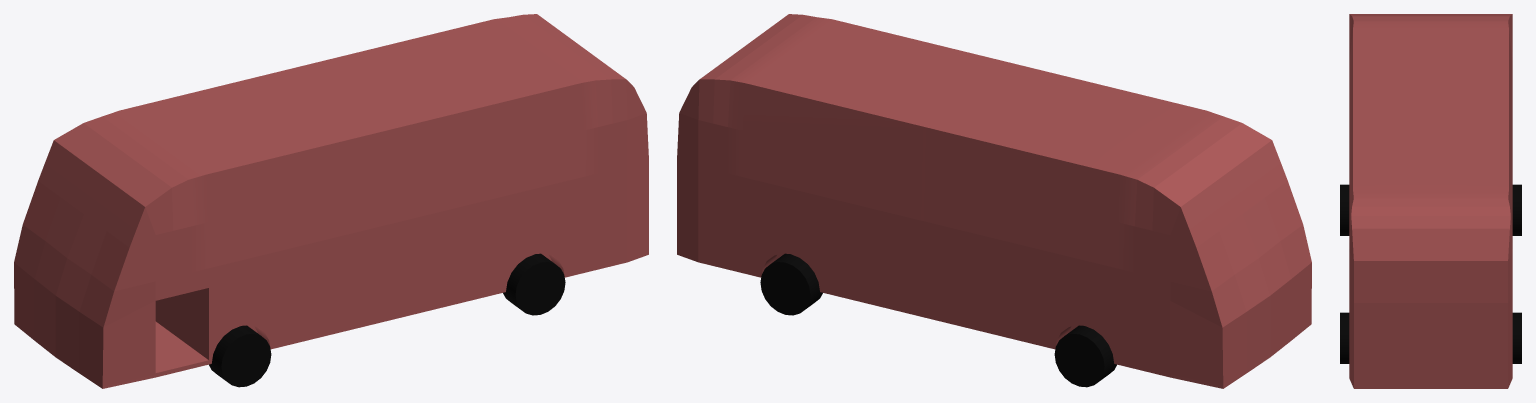
Rendered from bus.fbx.
3 views of the same model, side by side, from view 1: azimuth 30°, elevation 25°; view 2: azimuth 150°, elevation 25°; view 3: azimuth 270°, elevation 25° (orthographic). The views are drawn at different scales.
Parts seen in each view (by area): view 1: Bus, wheel, wheel1; view 2: Bus, wheel2, wheel3; view 3: Bus, wheel, wheel1, wheel2, wheel3.
Part boxes in pixels (box(x1,y1,x2,y2)): Bus: box(14, 14, 648, 388); wheel: box(503, 253, 565, 315); wheel1: box(209, 325, 271, 387); Bus: box(677, 14, 1311, 388); wheel2: box(760, 253, 822, 315); wheel3: box(1054, 325, 1116, 387); Bus: box(1349, 14, 1512, 388); wheel: box(1340, 312, 1349, 363); wheel1: box(1340, 184, 1349, 235); wheel2: box(1512, 312, 1521, 363); wheel3: box(1512, 184, 1521, 235).
Size of the model in its own units: 18.7 by 6.98 by 6.
